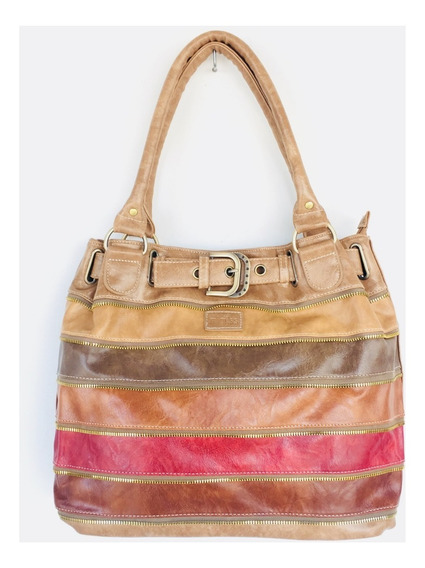cartera: (45, 28, 408, 549)
